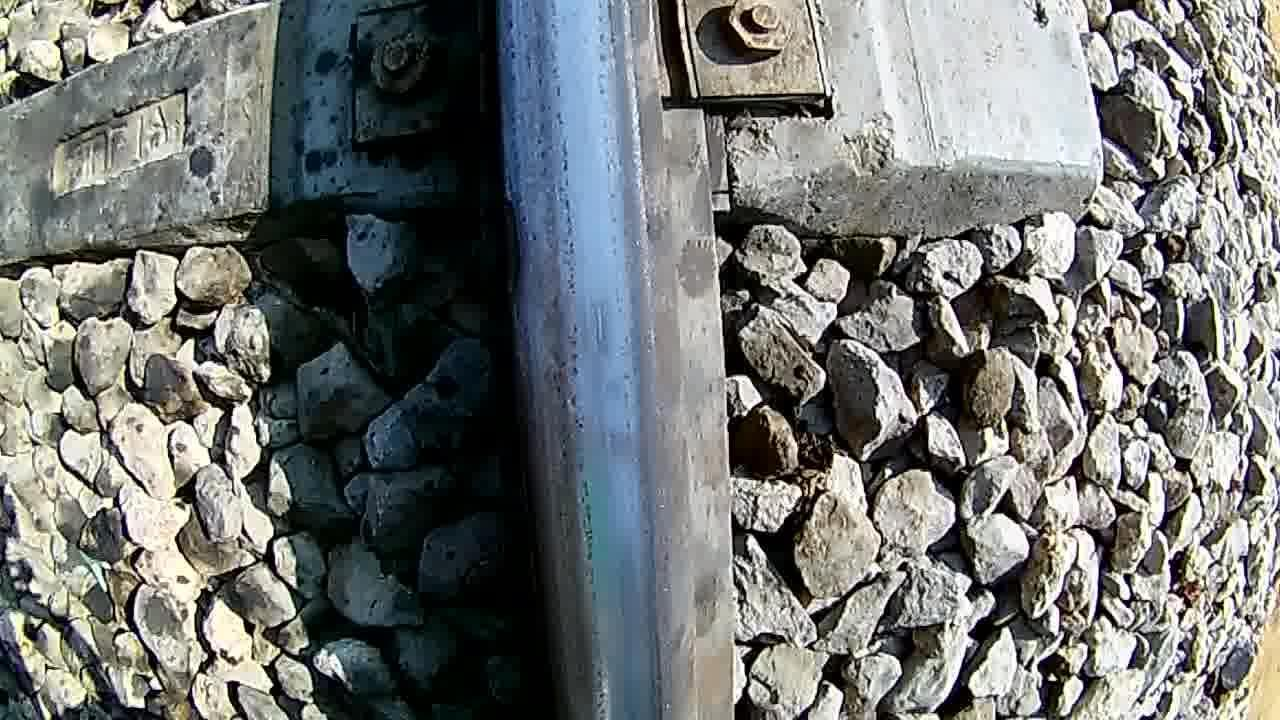crack: (505, 0, 689, 706)
